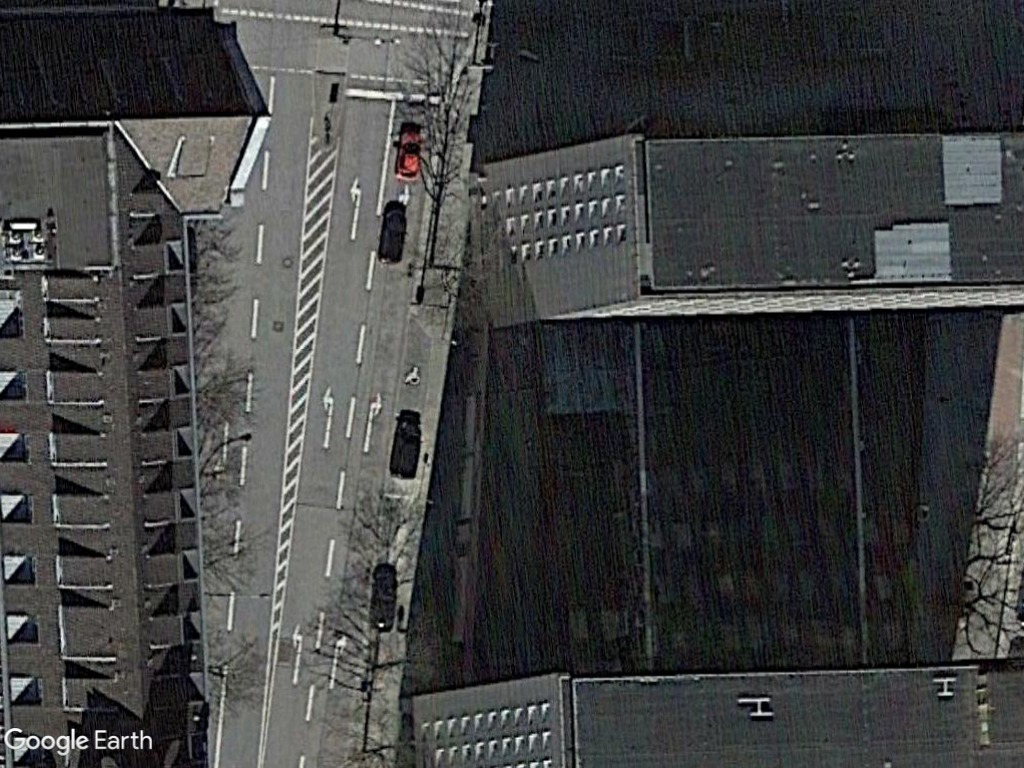car: (391, 121, 424, 183)
